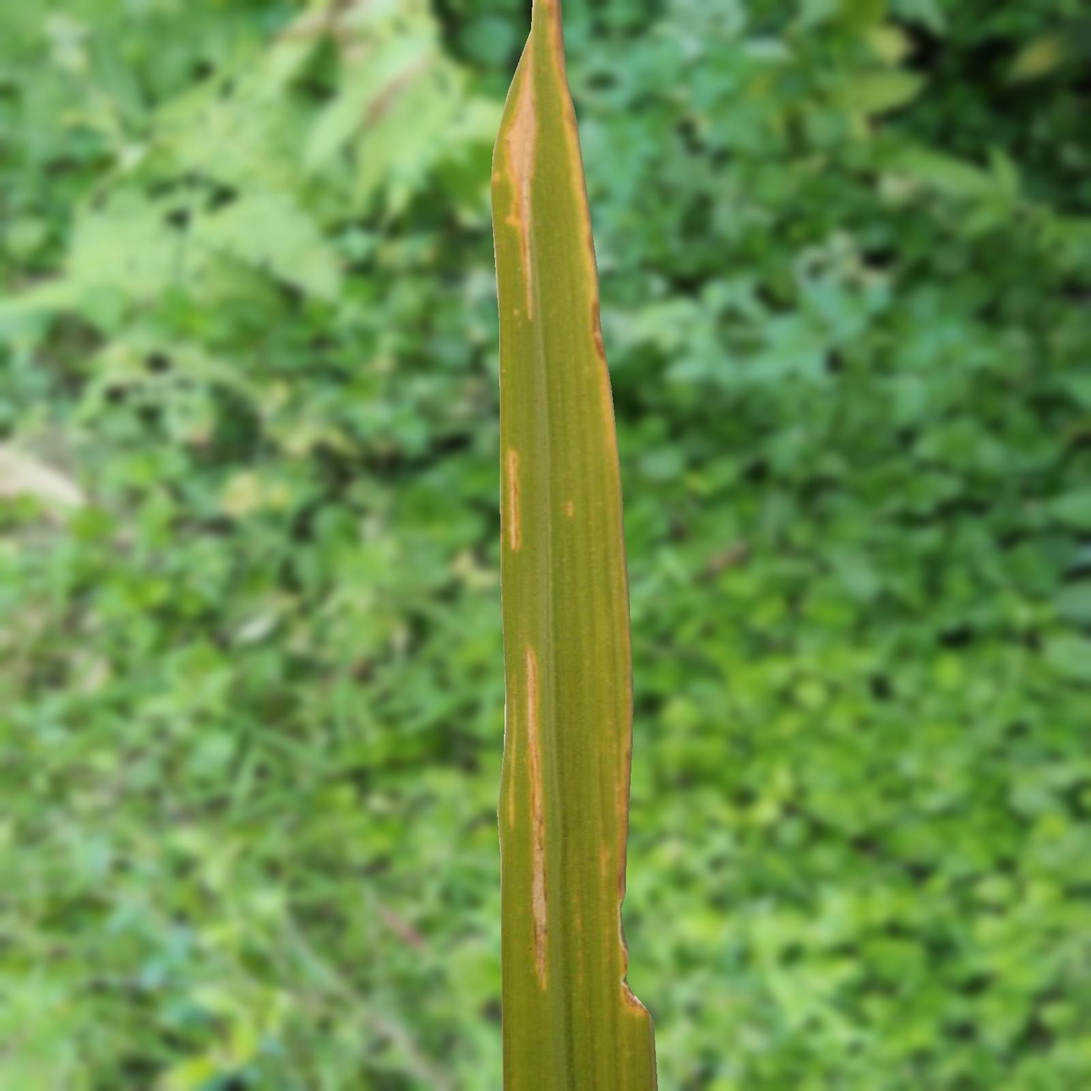BLS: (503, 46, 537, 317), (526, 644, 548, 988), (508, 669, 518, 829), (507, 449, 521, 551)
LEAF: (490, 0, 657, 1090)
